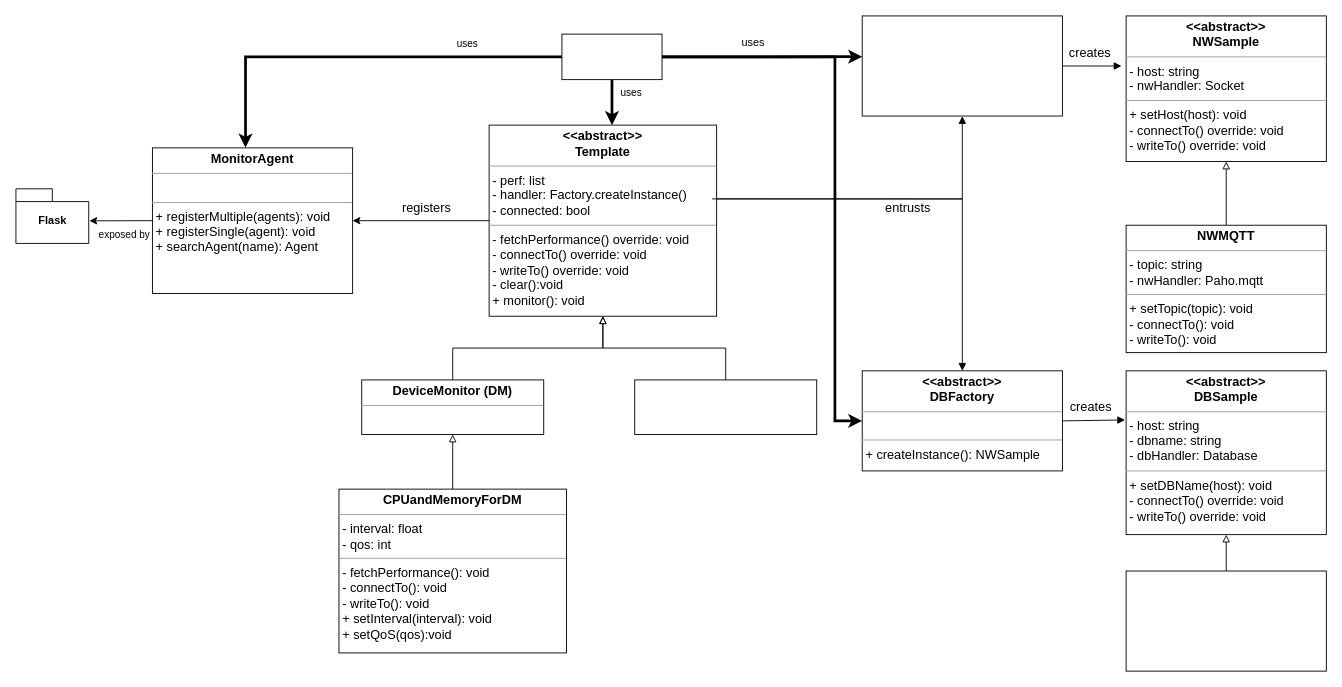
This 1342x687 diagram has some shape labels left out. The shapes that lost their labels are listed below. From the top down, each one's box as (x1, y1, x2, y2) in pixels, then its label:
(561, 33, 662, 80): Client
(861, 15, 1062, 116): <<abstract>> NWFactory + createInstance(): NWSample
(634, 379, 817, 435): ProcessMonitor (PM)
(1125, 570, 1326, 671): DBSqlite3 - connectTo(): void - writeTo(): void
